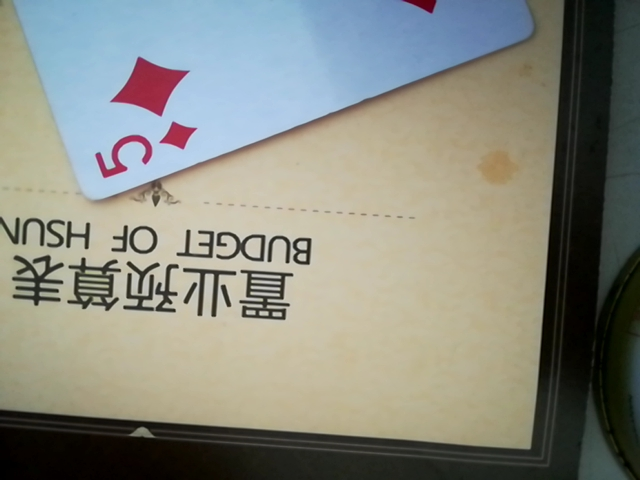fk 5: (0, 0, 539, 206)
